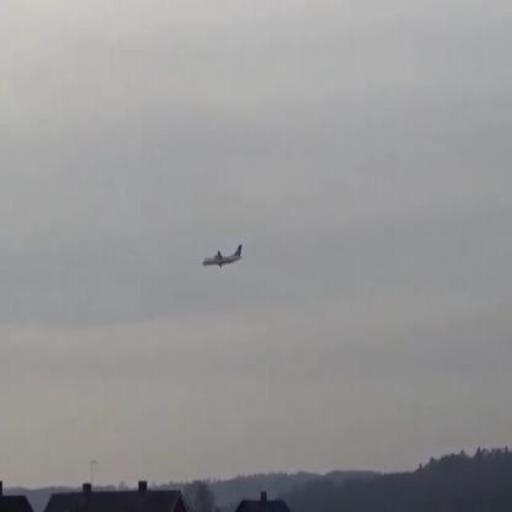aircraft: (203, 245, 244, 271)
